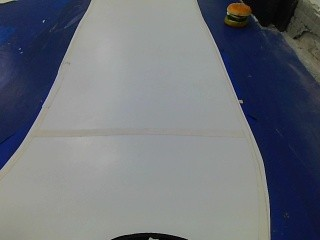burger: (216, 0, 255, 32)
